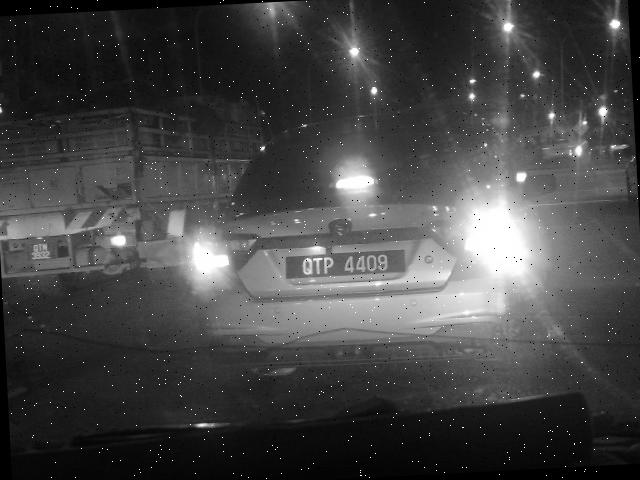License_Plate: (286, 252, 407, 280), (25, 243, 57, 262)
car: (164, 103, 561, 399)
lorry: (1, 101, 255, 300)
